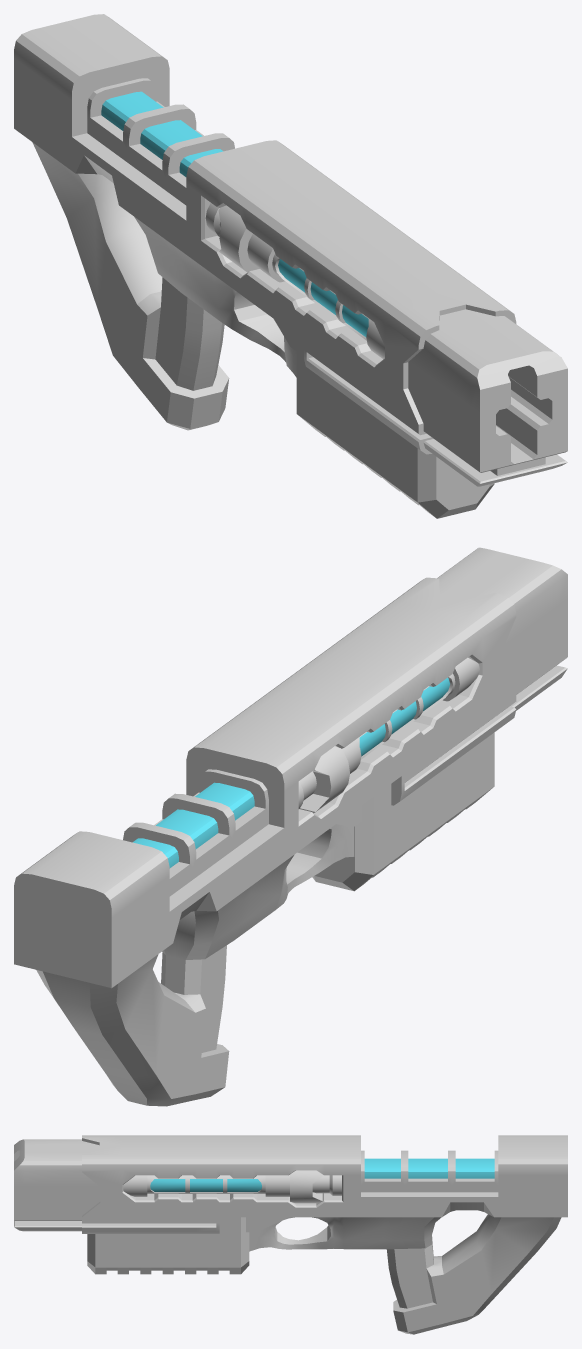
File: SMG.FBX
The picture shows the model from 3 angles, top to bottom: view 1: azimuth 30°, elevation 25°; view 2: azimuth 150°, elevation 25°; view 3: azimuth 270°, elevation 25°; orthographic projection. The views are drawn at different scales.
Visible parts, largest first — view 1: SMG; view 2: SMG; view 3: SMG.
Boxes of the visible parts, x1,y1,x2,y2 form: SMG: [14, 14, 567, 518]; SMG: [14, 547, 567, 1106]; SMG: [14, 1135, 567, 1334].
Bounding box in the file's own units: 120 × 315 × 857.
